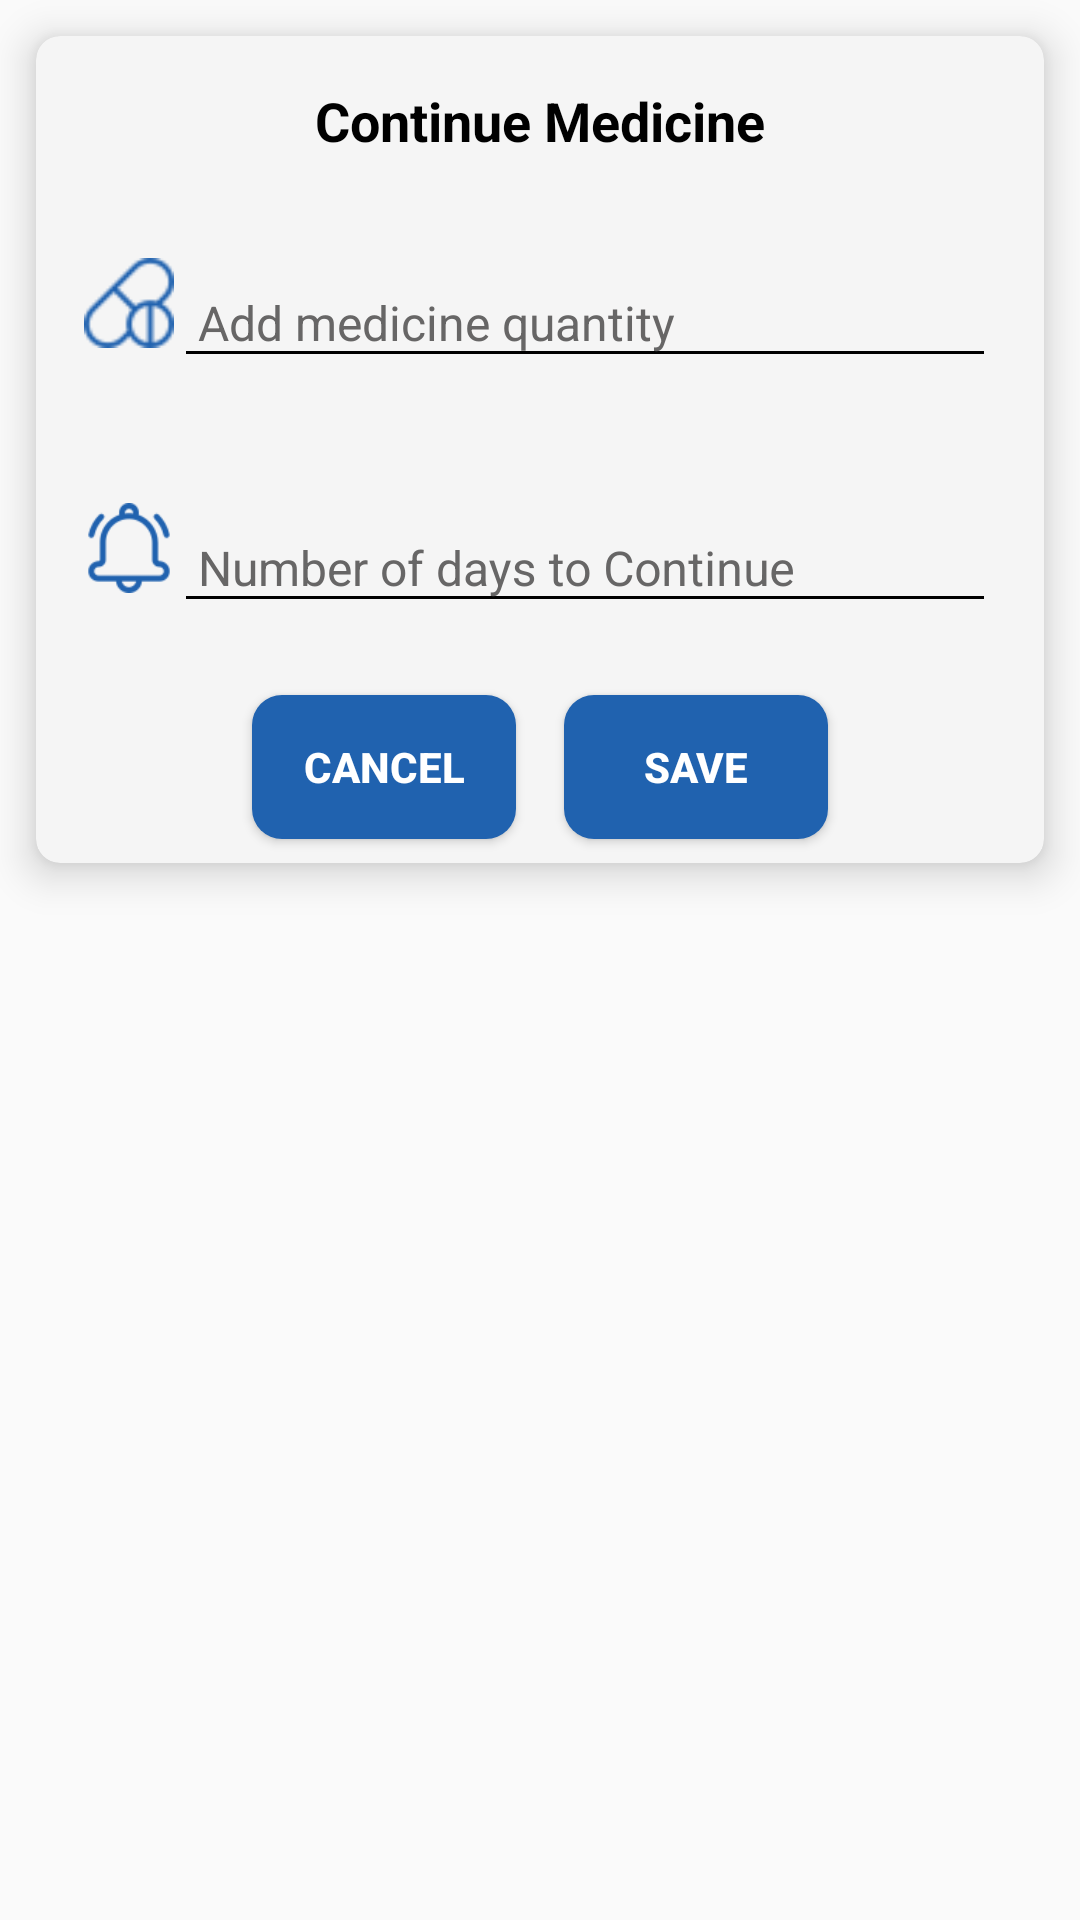

Icon click points for this 1080×1920 phone screenshot, format (x=x, y=y):
drugs: (x=129, y=303)
